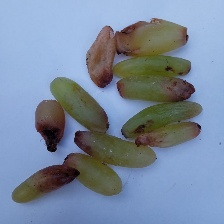grapes: (53, 32, 188, 221)
